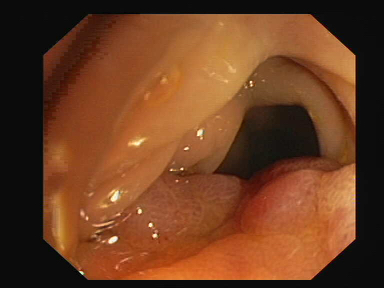polyp: (129, 171, 245, 254), (242, 170, 327, 231), (253, 156, 337, 185)
